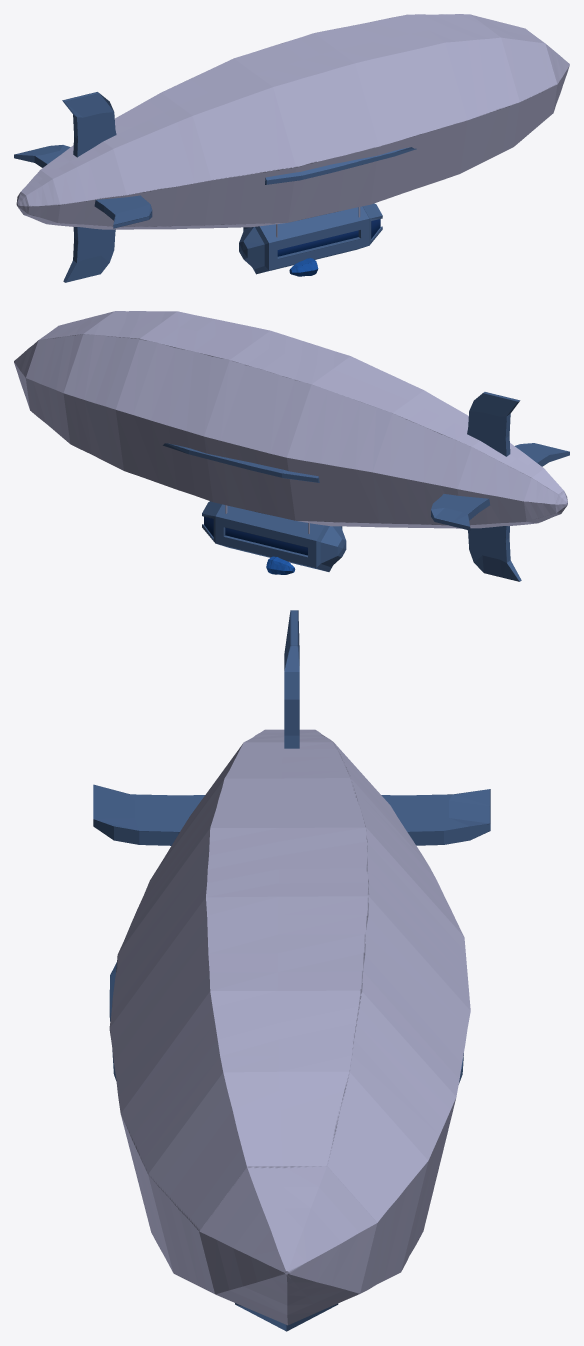
File: airship.compressed.glb
3 views of the same model, one above another, from view 1: azimuth 30°, elevation 25°; view 2: azimuth 150°, elevation 25°; view 3: azimuth 270°, elevation 25° (orthographic). The views are drawn at different scales.
Parts seen in each view (by area): view 1: Node; view 2: Node; view 3: Node.
Boxes of the visible parts, box(x1,y1,x2,y2) form: Node: box(14, 14, 569, 282); Node: box(14, 311, 569, 581); Node: box(93, 610, 490, 1331).
Bounding box in the file's own units: 674 × 255 × 211.
1 material, 1 textured.
